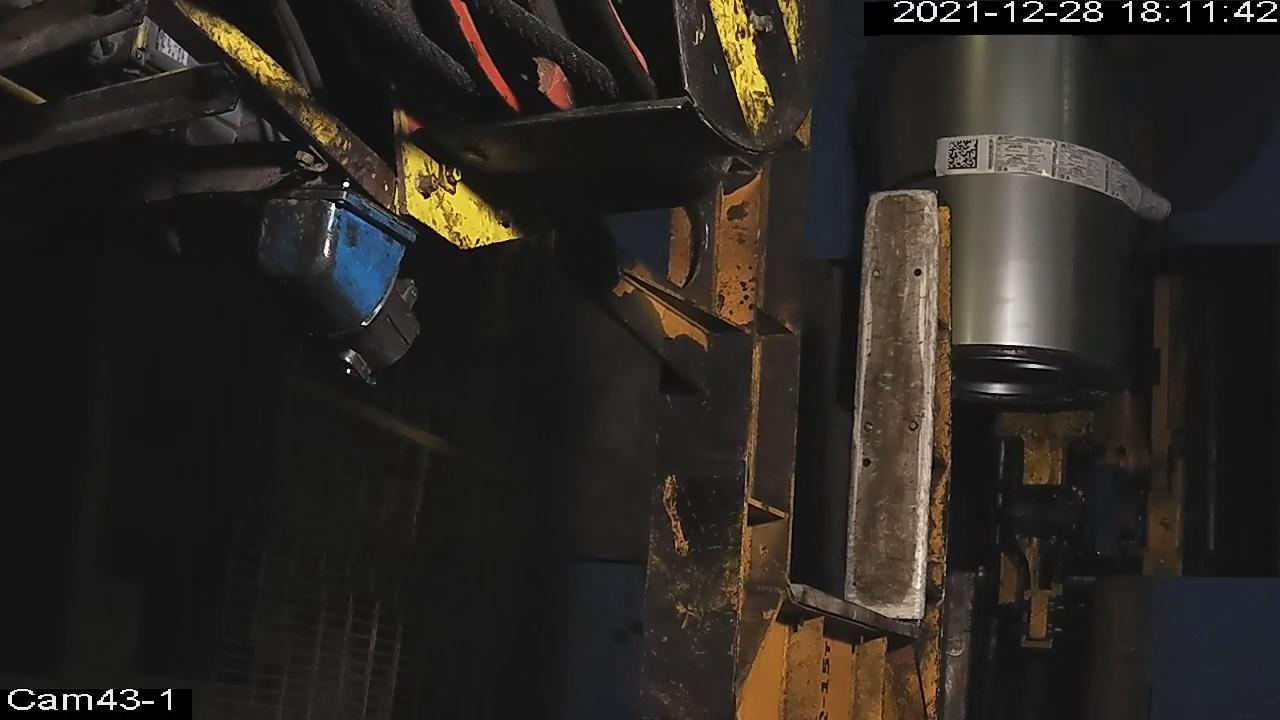data matrix: (946, 138, 981, 174)
